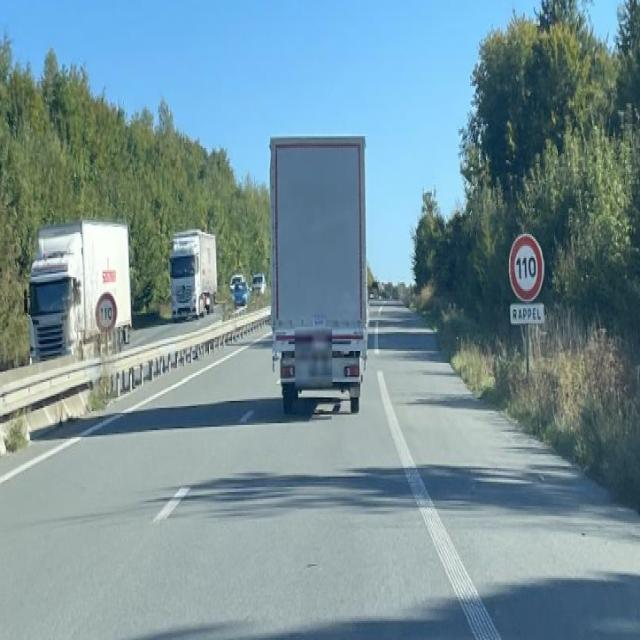speed_110: (510, 237, 544, 299), (96, 294, 116, 330)
